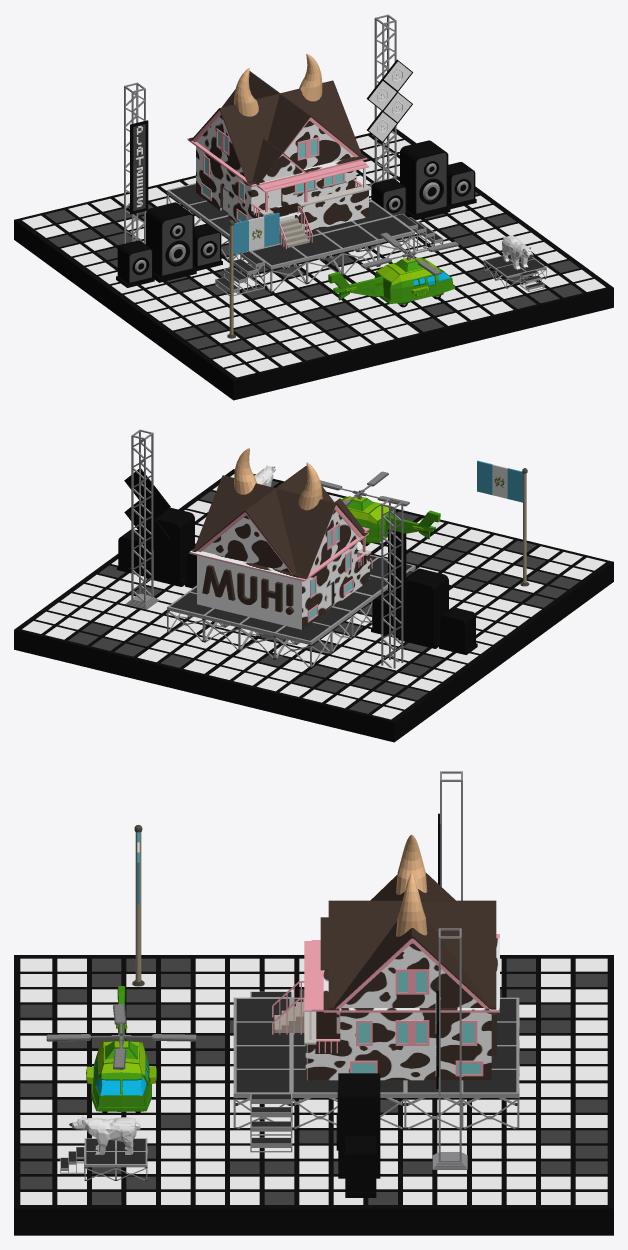
3 views of the same model, one above another, from view 1: azimuth 30°, elevation 25°; view 2: azimuth 150°, elevation 25°; view 3: azimuth 270°, elevation 25° (orthographic). The views are drawn at different scales.
Parts seen in each view (by area): view 1: Cube.008, Cube.1242, VEHICLES_HELICOPTER, OBJRANDOM_GUATEMALAN_FLAG, ANIMAL_OSO_POLAR; view 2: Cube.008, Cube.1242, VEHICLES_HELICOPTER, OBJRANDOM_GUATEMALAN_FLAG; view 3: Cube.008, Cube.1242, VEHICLES_HELICOPTER, ANIMAL_OSO_POLAR, OBJRANDOM_GUATEMALAN_FLAG.
Part boxes in pixels (box(x1,y1,x2,y2)): Cube.008: box(14, 14, 613, 400); Cube.1242: box(187, 54, 371, 248); VEHICLES_HELICOPTER: box(328, 232, 459, 307); OBJRANDOM_GUATEMALAN_FLAG: box(227, 212, 279, 338); ANIMAL_OSO_POLAR: box(502, 235, 533, 270); Cube.008: box(14, 429, 613, 742); Cube.1242: box(189, 448, 372, 629); VEHICLES_HELICOPTER: box(320, 471, 440, 546); OBJRANDOM_GUATEMALAN_FLAG: box(477, 460, 529, 586); Cube.008: box(14, 771, 613, 1235); Cube.1242: box(272, 834, 499, 1080); VEHICLES_HELICOPTER: box(46, 986, 196, 1112); ANIMAL_OSO_POLAR: box(69, 1115, 140, 1154); OBJRANDOM_GUATEMALAN_FLAG: box(132, 825, 144, 986).
Size of the model in its own units: 4000 by 2124 by 4000.
45 materials, 1 textured.
